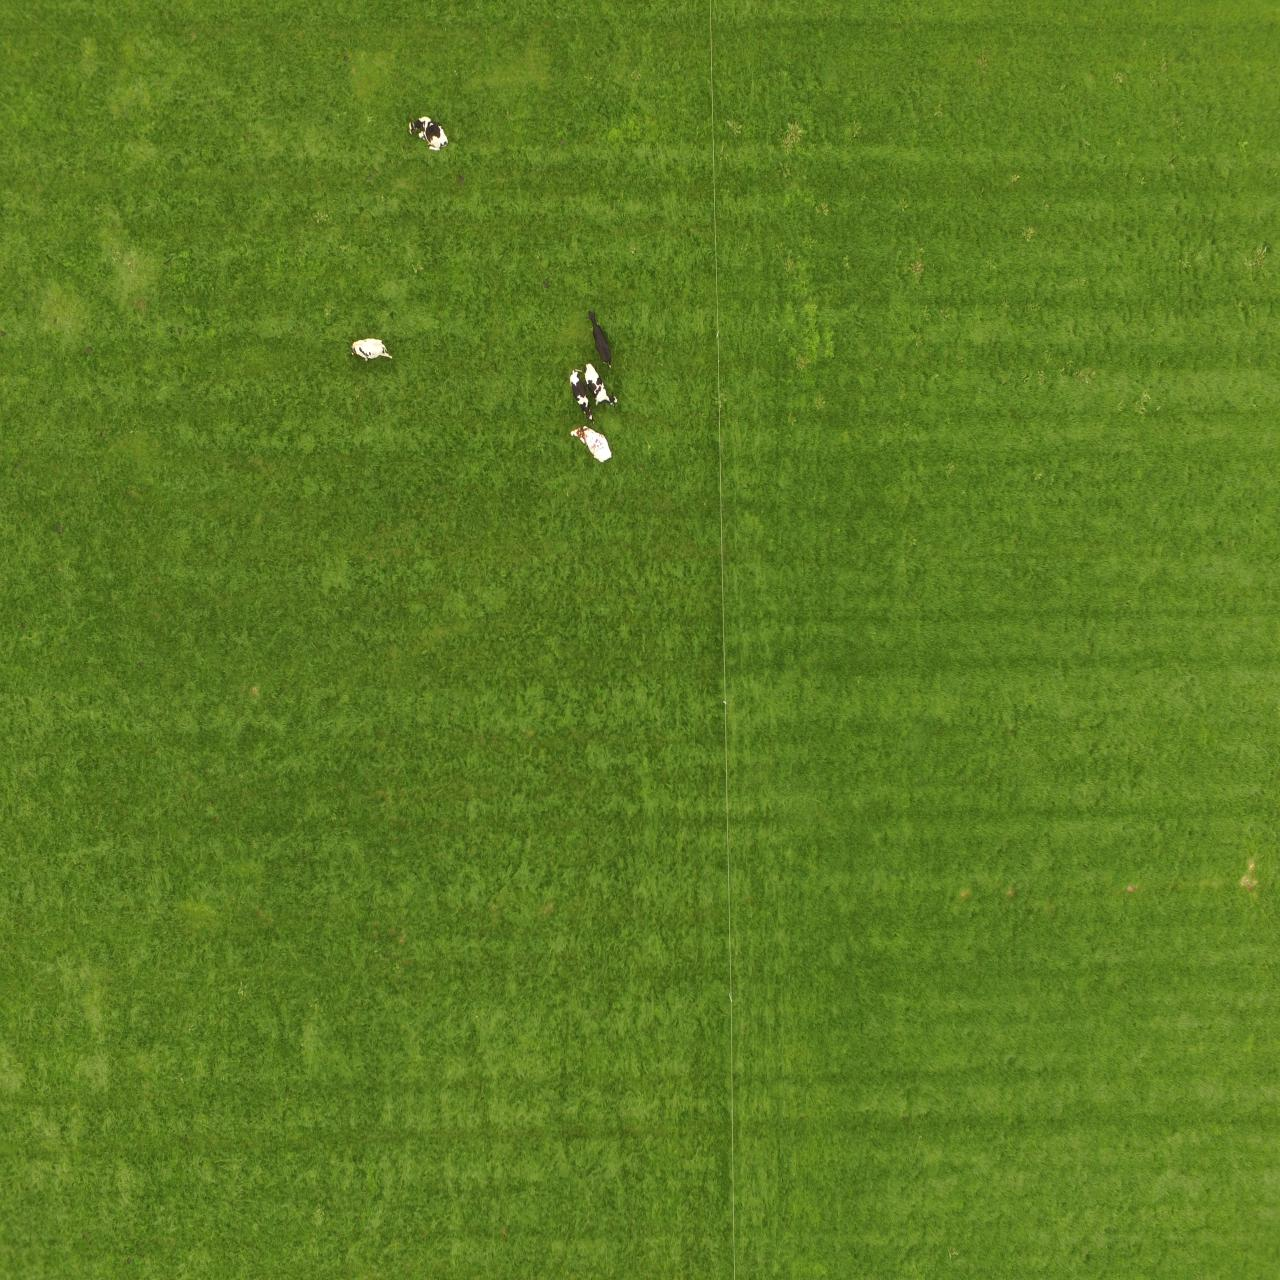cow: (407, 111, 451, 156), (567, 425, 613, 464), (585, 361, 619, 411), (567, 363, 593, 422), (348, 336, 395, 367), (587, 312, 611, 366)
